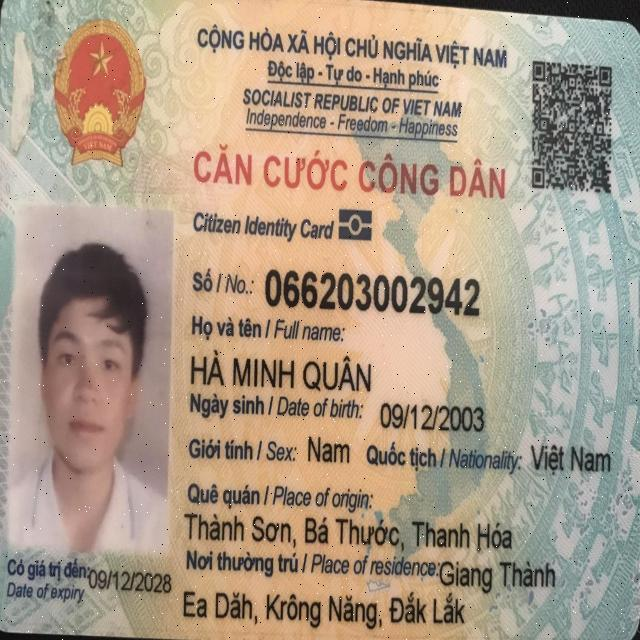current_place: (181, 587, 468, 633), (438, 557, 558, 596)
dob: (377, 395, 486, 438)
expire_date: (87, 565, 173, 598)
gender: (305, 432, 352, 469)
id: (262, 262, 484, 323)
name: (187, 346, 373, 396)
nationality: (529, 439, 613, 480)
origin_place: (181, 508, 514, 554)
